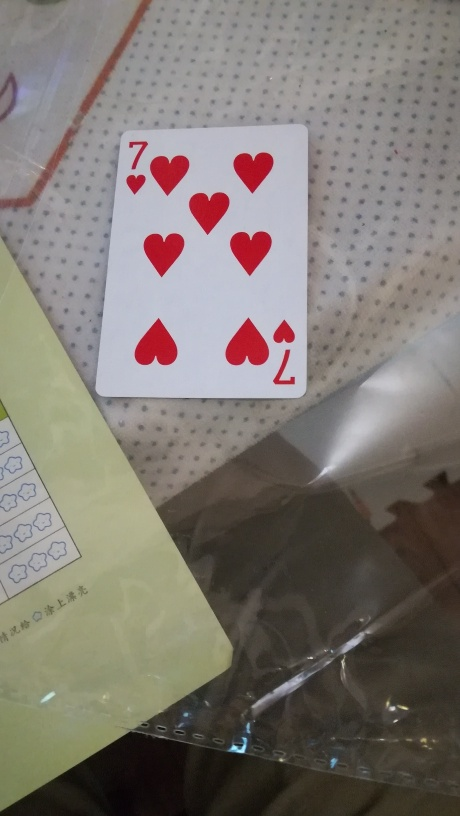hx 7: (94, 123, 308, 403)
